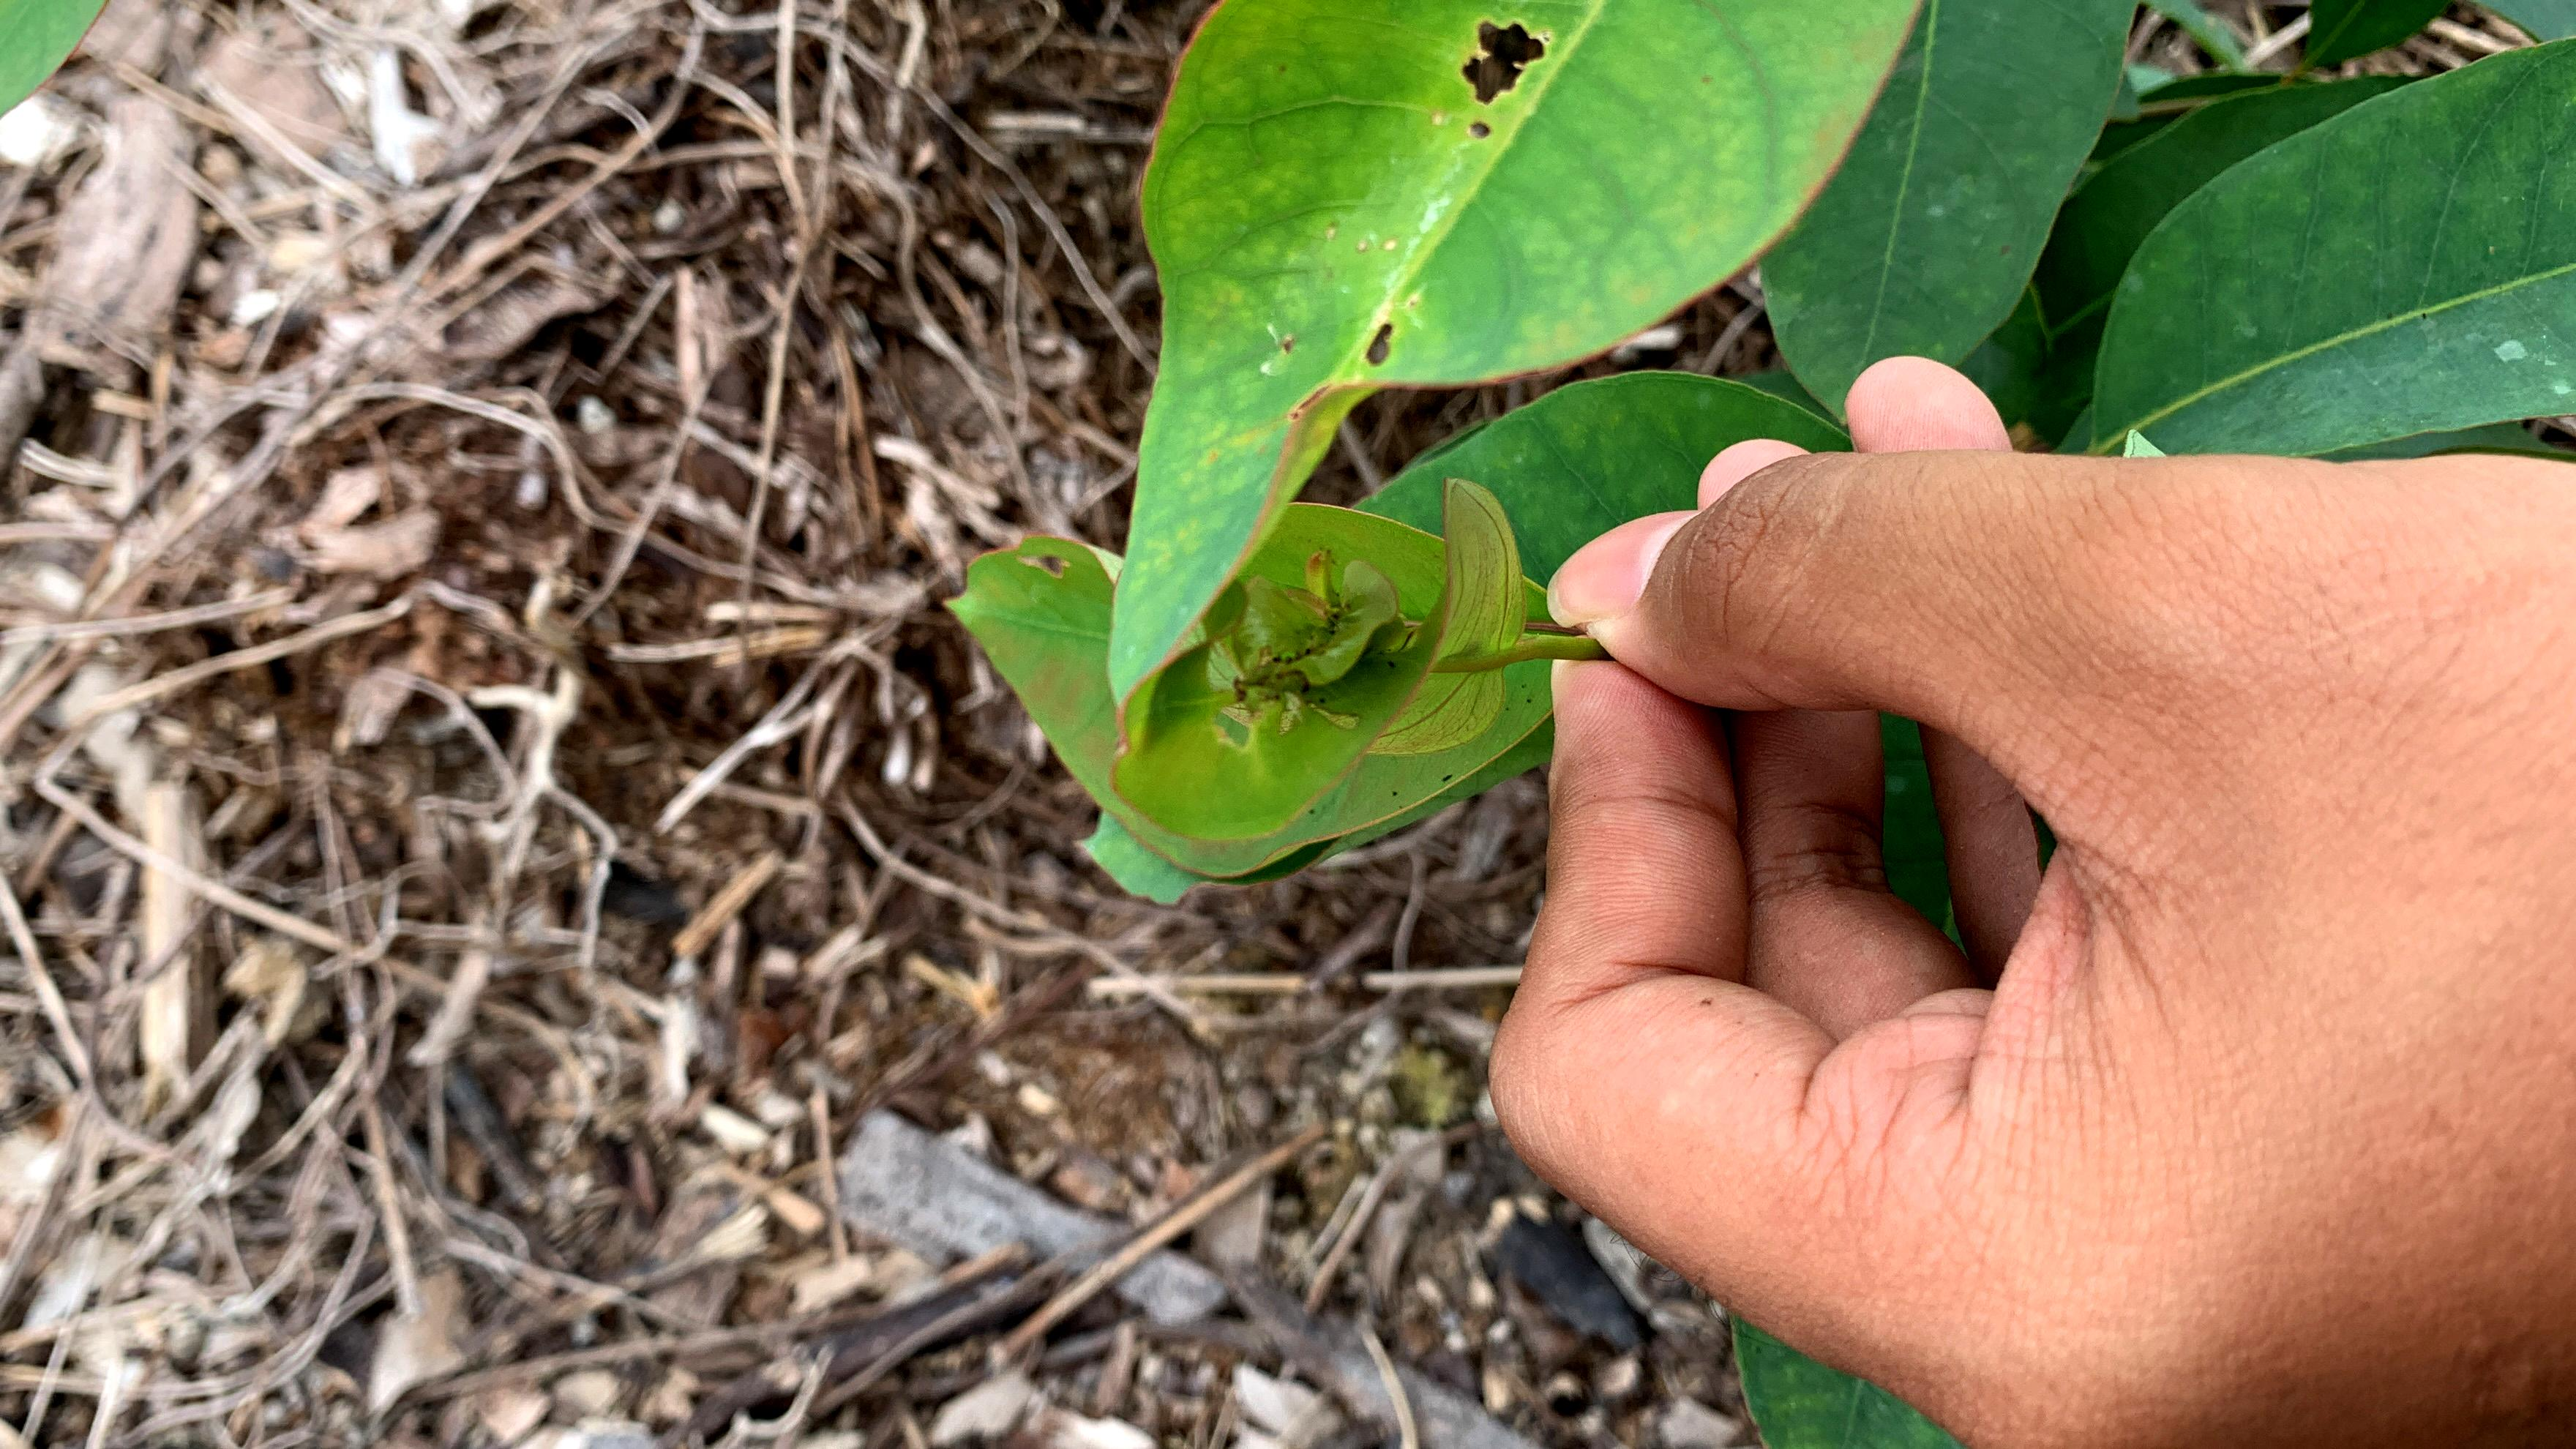Leaf Roller - Leaf: (933, 454, 1581, 927)
